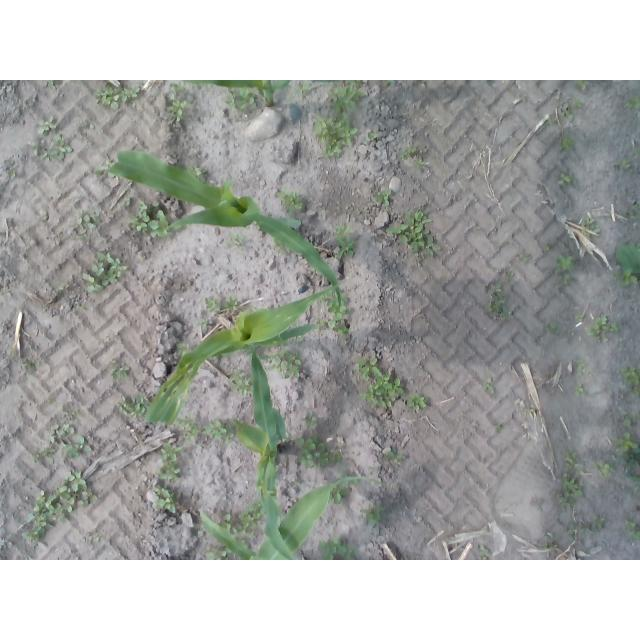Maize: (106, 151, 343, 309), (144, 282, 344, 425), (199, 476, 389, 560), (235, 349, 294, 559), (182, 81, 291, 108)
Weeds: (22, 467, 103, 545), (313, 86, 367, 159), (384, 208, 441, 257), (33, 422, 92, 467), (356, 356, 404, 408), (555, 442, 585, 511), (82, 251, 130, 294), (29, 118, 75, 162), (296, 434, 345, 470), (128, 201, 169, 239), (318, 292, 351, 335), (94, 85, 143, 111), (266, 348, 303, 381), (156, 442, 183, 482), (616, 242, 640, 287), (319, 536, 361, 561), (200, 417, 234, 447), (233, 501, 263, 535), (486, 282, 511, 322), (545, 100, 584, 125), (71, 209, 102, 240), (567, 514, 606, 538), (168, 83, 190, 125), (586, 314, 619, 342), (117, 390, 148, 418), (335, 224, 357, 260), (359, 498, 386, 527), (227, 87, 258, 112), (618, 447, 640, 482), (152, 485, 177, 515), (275, 184, 305, 208), (229, 367, 251, 397), (179, 416, 201, 444), (621, 365, 640, 396), (611, 432, 640, 452), (556, 253, 573, 287), (94, 154, 116, 179), (405, 391, 428, 413), (378, 446, 406, 464), (593, 458, 616, 479), (110, 361, 131, 383), (204, 544, 230, 561), (372, 186, 392, 207), (201, 295, 223, 314), (559, 129, 578, 151), (623, 517, 640, 541), (21, 358, 44, 375), (621, 409, 640, 428), (330, 488, 351, 505), (187, 163, 209, 179), (223, 297, 241, 316), (583, 217, 601, 235), (302, 410, 319, 429), (576, 357, 589, 380), (296, 84, 313, 101), (622, 95, 640, 111), (557, 173, 576, 187), (519, 249, 533, 268), (543, 532, 557, 551), (195, 319, 211, 335), (401, 144, 416, 161), (624, 487, 640, 502), (233, 233, 250, 247), (626, 203, 640, 220), (42, 81, 62, 92), (177, 343, 191, 358), (476, 544, 489, 560), (576, 81, 593, 92), (221, 514, 233, 529), (574, 384, 589, 396), (483, 377, 493, 395), (620, 159, 633, 171), (275, 239, 286, 253), (289, 481, 303, 492), (505, 270, 516, 283), (346, 81, 366, 88), (9, 166, 18, 181), (367, 130, 379, 141), (195, 524, 205, 537), (549, 322, 559, 335), (70, 410, 81, 421), (494, 422, 503, 434), (524, 407, 537, 415), (574, 315, 585, 324), (58, 283, 70, 291), (416, 158, 423, 171), (125, 195, 132, 207), (545, 244, 554, 253), (633, 147, 640, 158), (7, 348, 14, 356), (78, 307, 87, 312)
